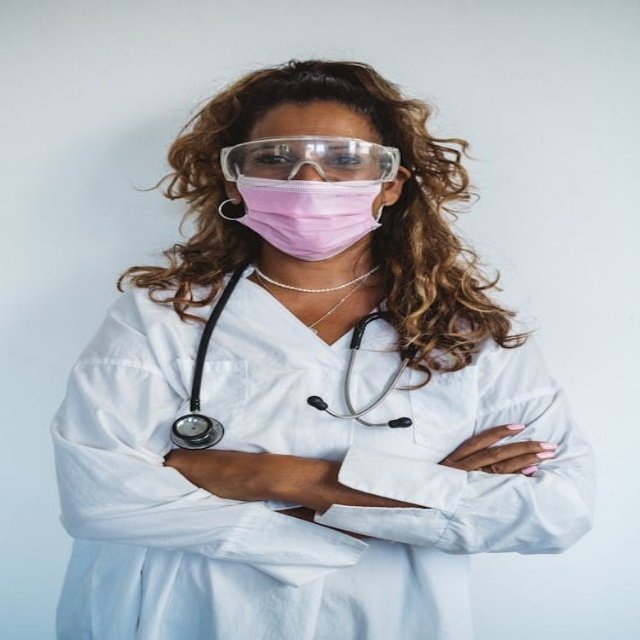Gafas: (220, 132, 408, 195)
Mascara: (226, 168, 388, 259)
Sin_guantes: (152, 434, 287, 511), (433, 416, 572, 480)
